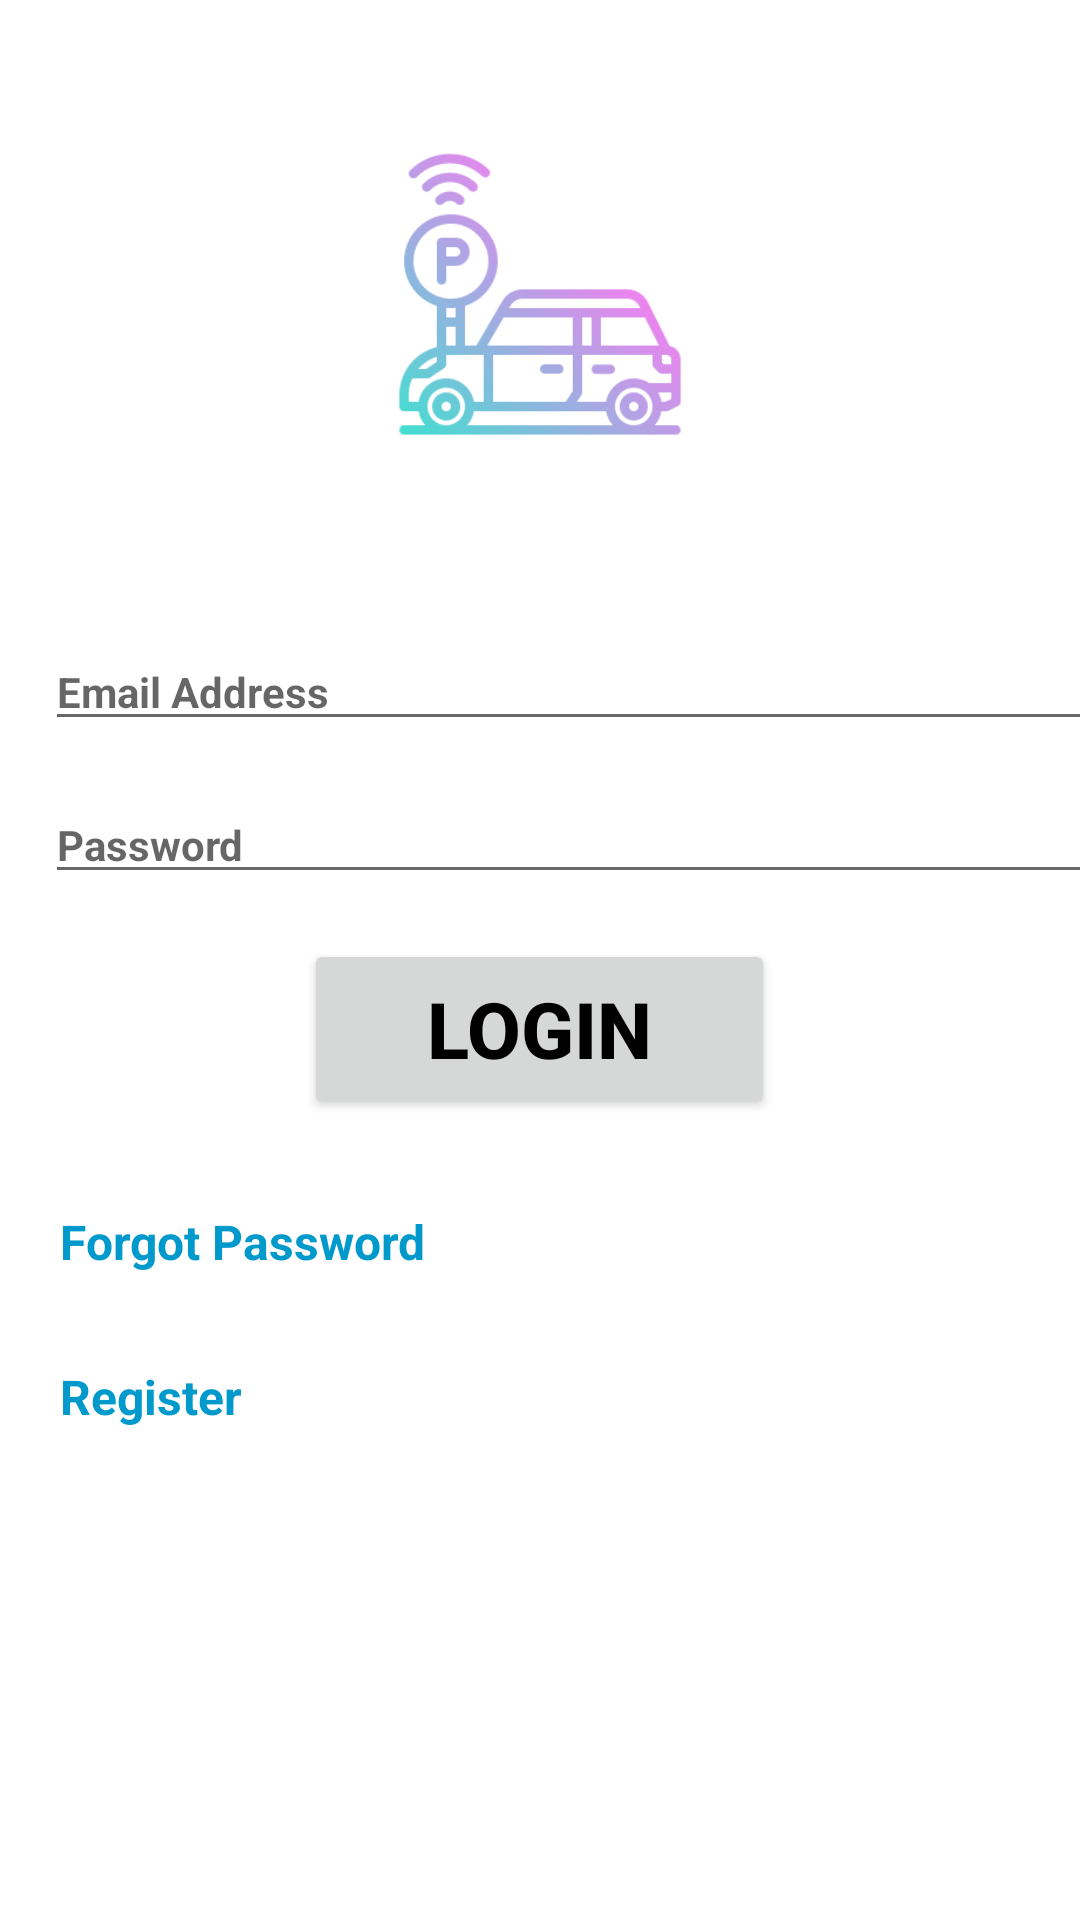

Icons on this 1080 × 1920 Android screen, each with its box as (x1, y1, x2, y2):
caricon: (399, 153, 681, 435)
